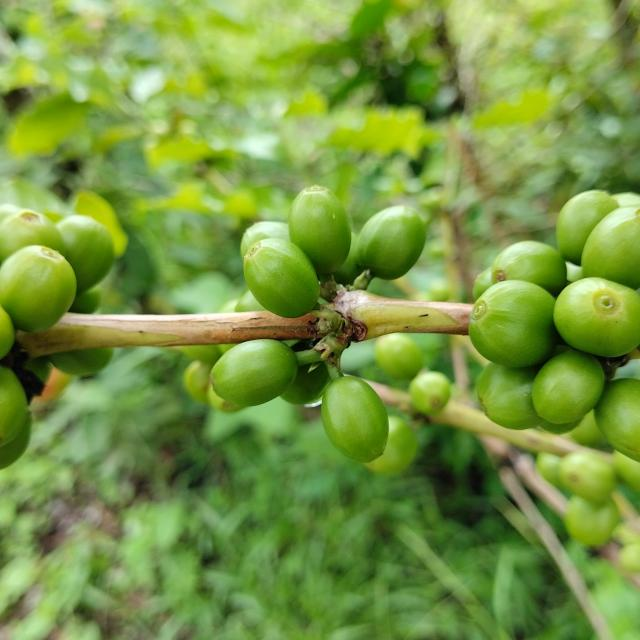green: (469, 280, 559, 368), (554, 277, 640, 358), (0, 245, 76, 332), (243, 238, 320, 318), (210, 339, 298, 407), (321, 376, 389, 463), (288, 185, 351, 274), (532, 350, 606, 424), (356, 205, 426, 280), (582, 205, 640, 289), (557, 190, 620, 265), (55, 214, 114, 293), (478, 362, 544, 430), (492, 241, 568, 295), (595, 378, 640, 462), (0, 209, 64, 262), (0, 366, 27, 447), (47, 348, 112, 377), (240, 221, 290, 258), (0, 305, 14, 359), (473, 267, 494, 301), (540, 420, 582, 435)
